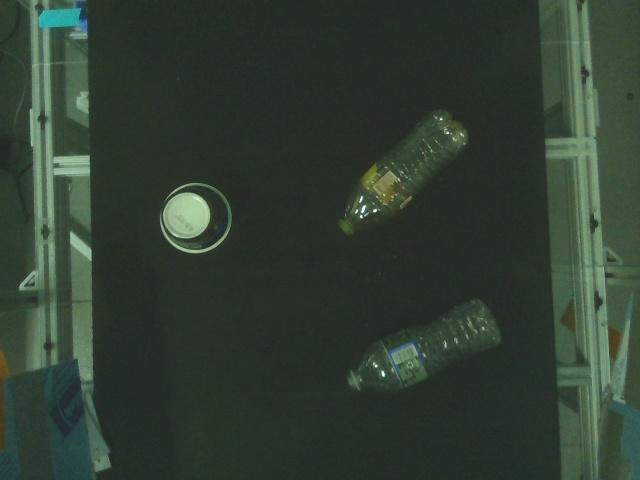plastic: (334, 106, 471, 239), (342, 295, 506, 398), (157, 179, 235, 256)
